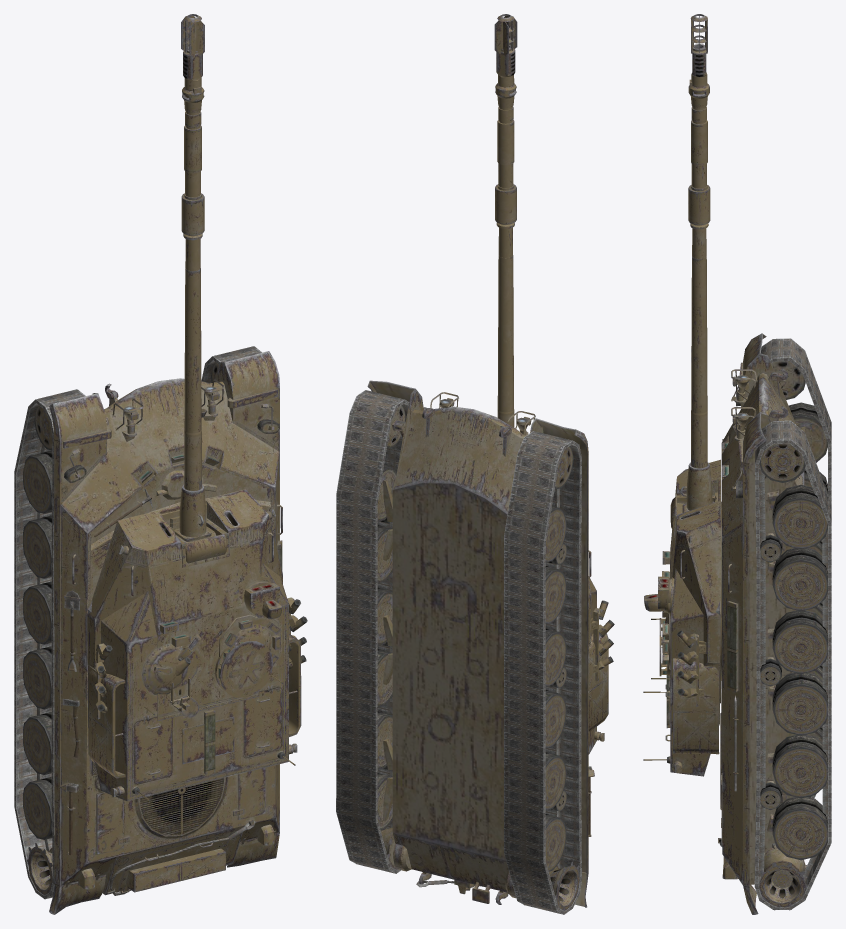
The picture shows the model from 3 angles, left to right: view 1: azimuth 30°, elevation 25°; view 2: azimuth 150°, elevation 25°; view 3: azimuth 270°, elevation 25°; orthographic projection. The views are drawn at different scales.
Parts seen in each view (by area): view 1: hull, hull_nc, turret_01, turret_02, chassis_track_L, turret_01_nc, turret_02_nc, gun_06, gun_02, gun_01, chassis_wheel_L_02, chassis_wheel_L_10 (+7 smaller); view 2: hull, chassis_track_L, chassis_track_R, hull_nc, gun_06, gun_02, turret_01, gun_01, chassis_wheel_L_11, turret_02_nc, chassis_wheel_L_07, chassis_wheel_L_05 (+8 smaller); view 3: hull, turret_01, hull_nc, chassis_track_R, gun_06, turret_02, chassis_wheel_R_05, chassis_wheel_R_08, chassis_wheel_R_04, chassis_wheel_R_07, chassis_wheel_R_10, chassis_wheel_R_02 (+14 smaller).
Part boxes in pixels (<box>): hull: <box>60,378,279,895</box>; hull_nc: <box>49,351,282,914</box>; turret_01: <box>87,489,301,778</box>; turret_02: <box>88,503,288,801</box>; chassis_track_L: <box>14,389,85,899</box>; turret_01_nc: <box>115,508,297,764</box>; turret_02_nc: <box>95,522,307,801</box>; gun_06: <box>181,46,204,433</box>; gun_02: <box>181,14,204,483</box>; gun_01: <box>182,87,204,490</box>; chassis_wheel_L_02: <box>23,450,52,513</box>; chassis_wheel_L_10: <box>23,777,52,839</box>; hull: <box>392,406,586,898</box>; chassis_track_L: <box>504,431,581,914</box>; chassis_track_R: <box>336,390,409,873</box>; hull_nc: <box>367,380,594,907</box>; gun_06: <box>495,45,516,412</box>; gun_02: <box>494,14,517,427</box>; turret_01: <box>588,579,608,732</box>; gun_01: <box>495,83,516,257</box>; chassis_wheel_L_11: <box>524,861,579,914</box>; turret_02_nc: <box>591,600,614,741</box>; chassis_wheel_L_07: <box>545,690,566,748</box>; chassis_wheel_L_05: <box>545,628,566,686</box>; hull: <box>721,373,804,884</box>; turret_01: <box>658,459,721,754</box>; hull_nc: <box>718,333,805,914</box>; chassis_track_R: <box>754,420,831,909</box>; gun_06: <box>688,44,710,413</box>; turret_02: <box>644,482,719,776</box>; chassis_wheel_R_05: <box>772,610,827,673</box>; chassis_wheel_R_08: <box>772,734,827,798</box>; chassis_wheel_R_04: <box>772,548,827,611</box>; chassis_wheel_R_07: <box>772,672,827,735</box>; chassis_wheel_R_10: <box>772,797,827,860</box>; chassis_wheel_R_02: <box>772,484,827,549</box>.
Bounding box in the file's own units: 3.37 × 12.64 × 2.54.
Materials: 2 (2 with a texture image).
